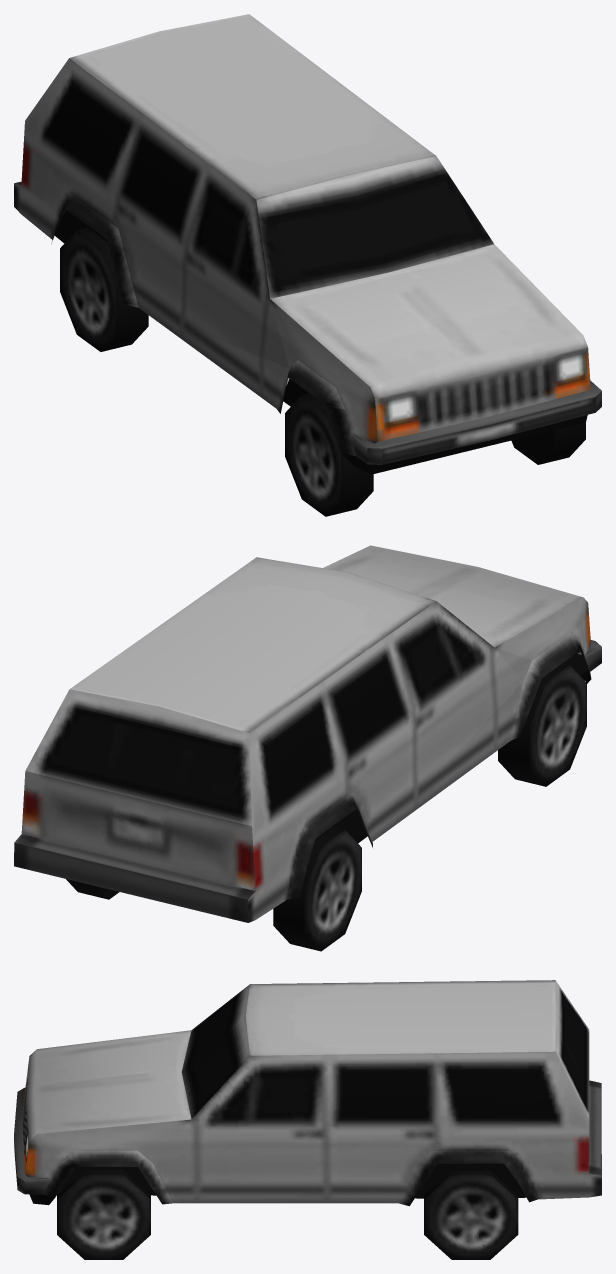
File: Car_JeepCherokee.fbx
3 renders of one model, top to bottom at view 1: azimuth 30°, elevation 25°; view 2: azimuth 150°, elevation 25°; view 3: azimuth 270°, elevation 25°, orthographic. The views are drawn at different scales.
Visible parts, largest first — view 1: Car_JeepCherokee; view 2: Car_JeepCherokee; view 3: Car_JeepCherokee.
Part boxes in pixels (left/top/right/bottom): Car_JeepCherokee: left=14, top=14, right=601, bottom=516; Car_JeepCherokee: left=14, top=545, right=601, bottom=951; Car_JeepCherokee: left=14, top=980, right=601, bottom=1259.
Size of the model in its own units: 1.89 by 1.74 by 4.64.
